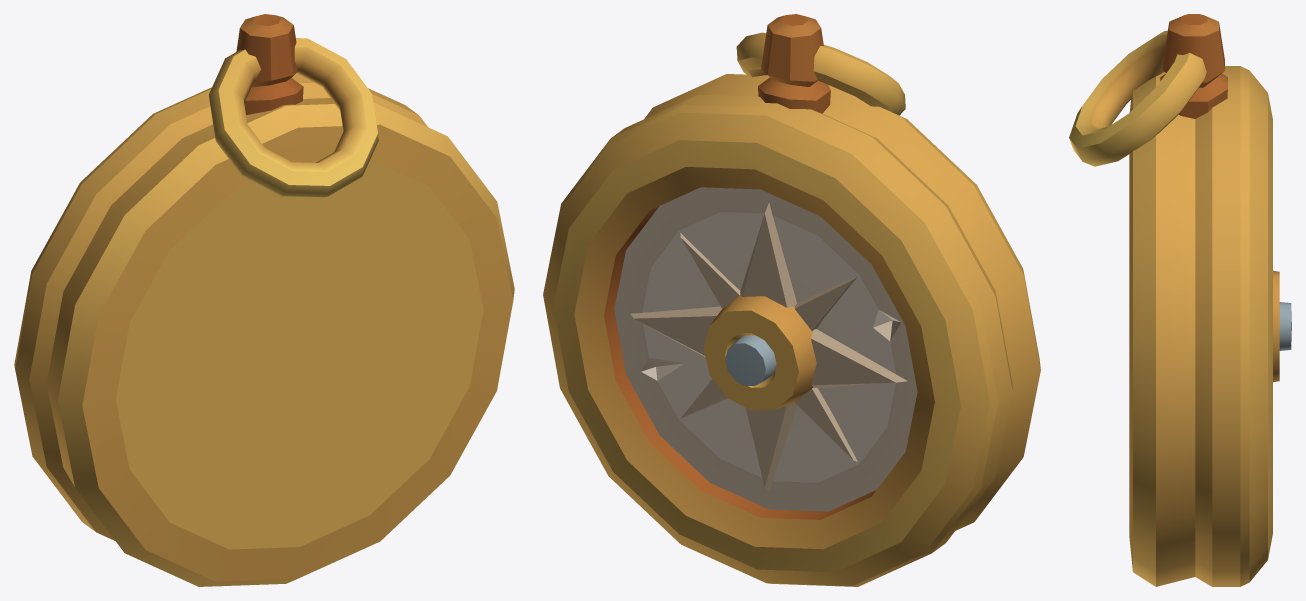
Rendered from compass.glb.
3 renders of one model, left to right at view 1: azimuth 30°, elevation 25°; view 2: azimuth 150°, elevation 25°; view 3: azimuth 270°, elevation 25°, orthographic.
Parts seen in each view (by area): view 1: compass_base; view 2: compass_base; view 3: compass_base.
Boxes of the visible parts, x1=… form: compass_base: x1=14, y1=14, x2=514, y2=586; compass_base: x1=543, y1=14, x2=1040, y2=586; compass_base: x1=1069, y1=14, x2=1291, y2=586.
Size of the model in its own units: 1.17 by 1.35 by 0.5009.
1 material, 1 textured.
